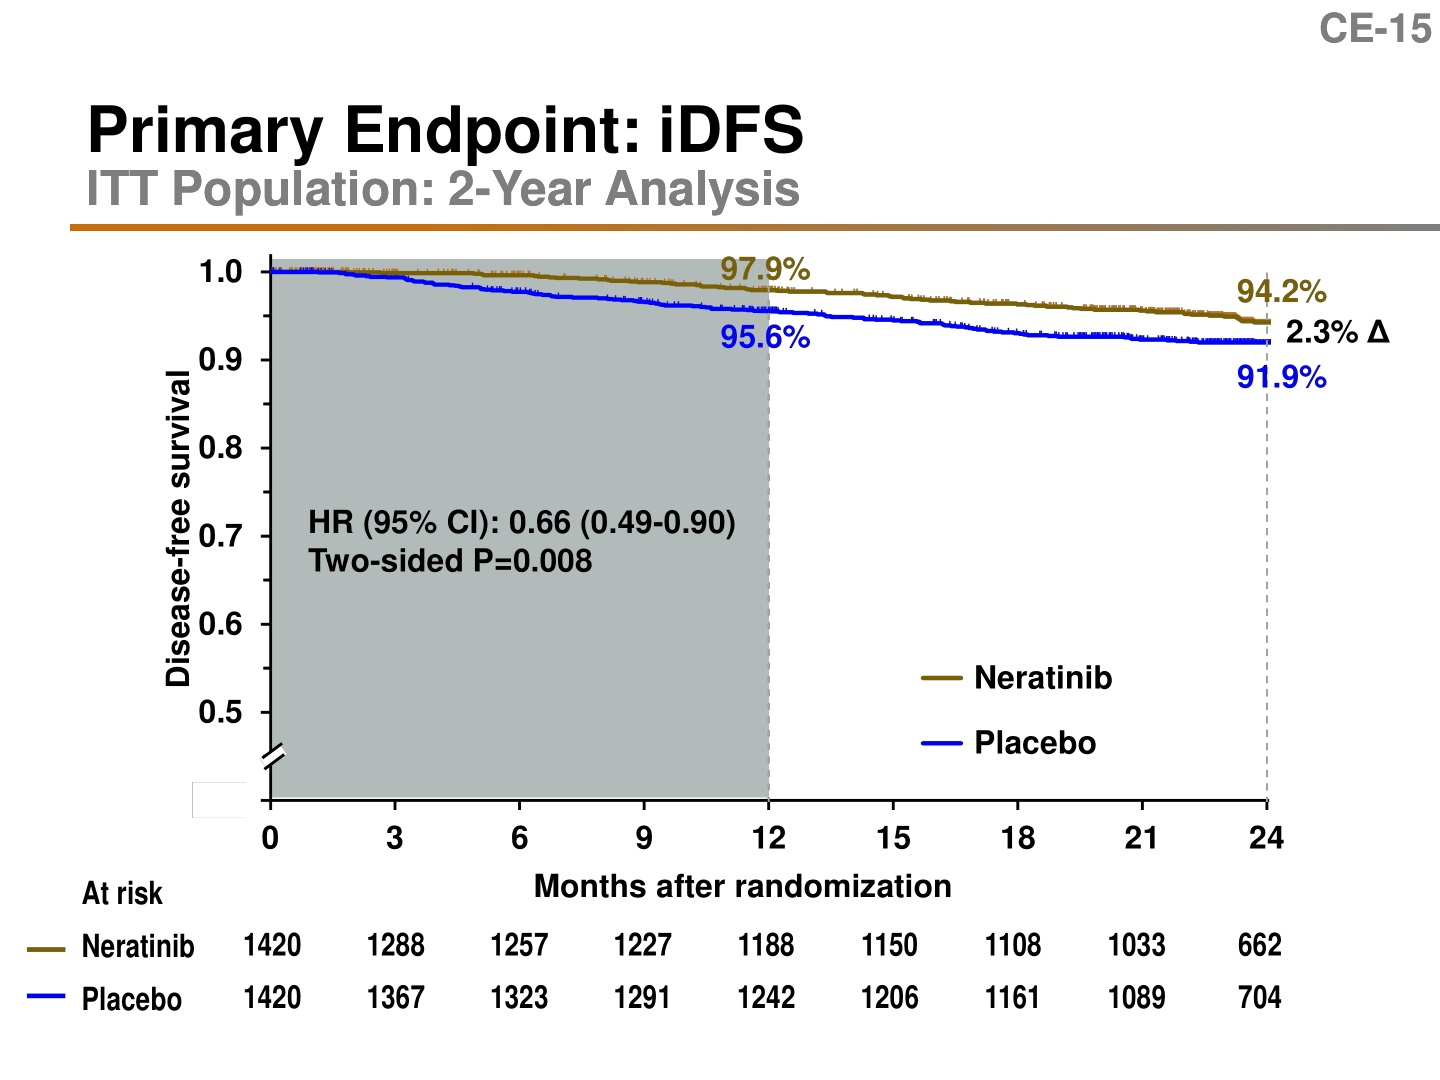nolines: (79, 921, 1297, 1016)
